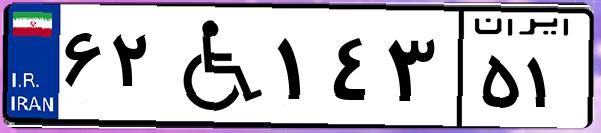1: (270, 28, 330, 110), (525, 38, 570, 115)
2: (110, 28, 158, 98)
3: (385, 28, 445, 110)
4: (330, 28, 385, 110)
5: (475, 38, 525, 113)
6: (57, 26, 110, 100)
ژ (معلولین و جانبازان): (158, 12, 270, 120)
